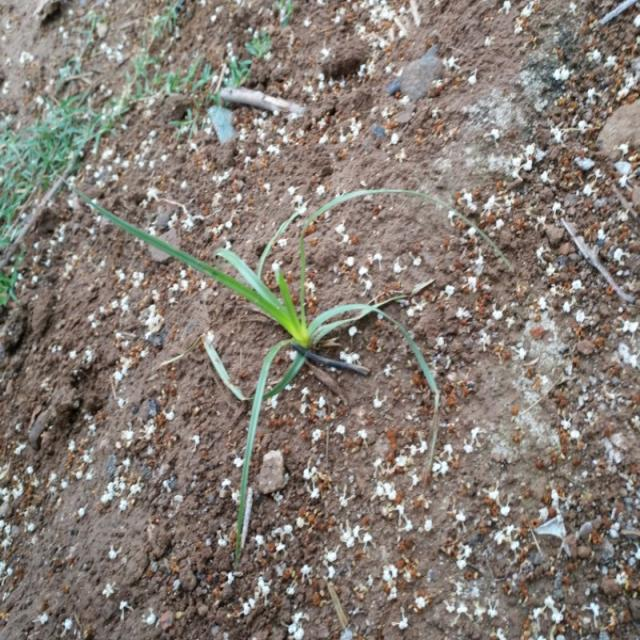sedge: (54, 164, 430, 460)
